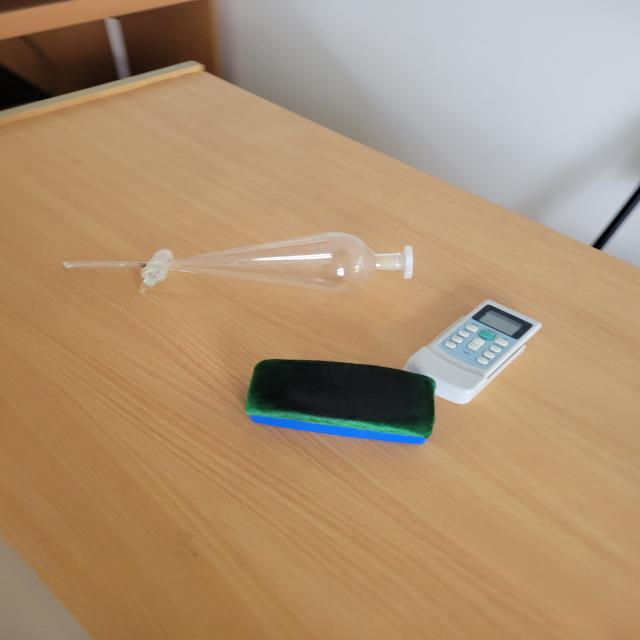Separating_Funnel: (30, 215, 435, 322)
